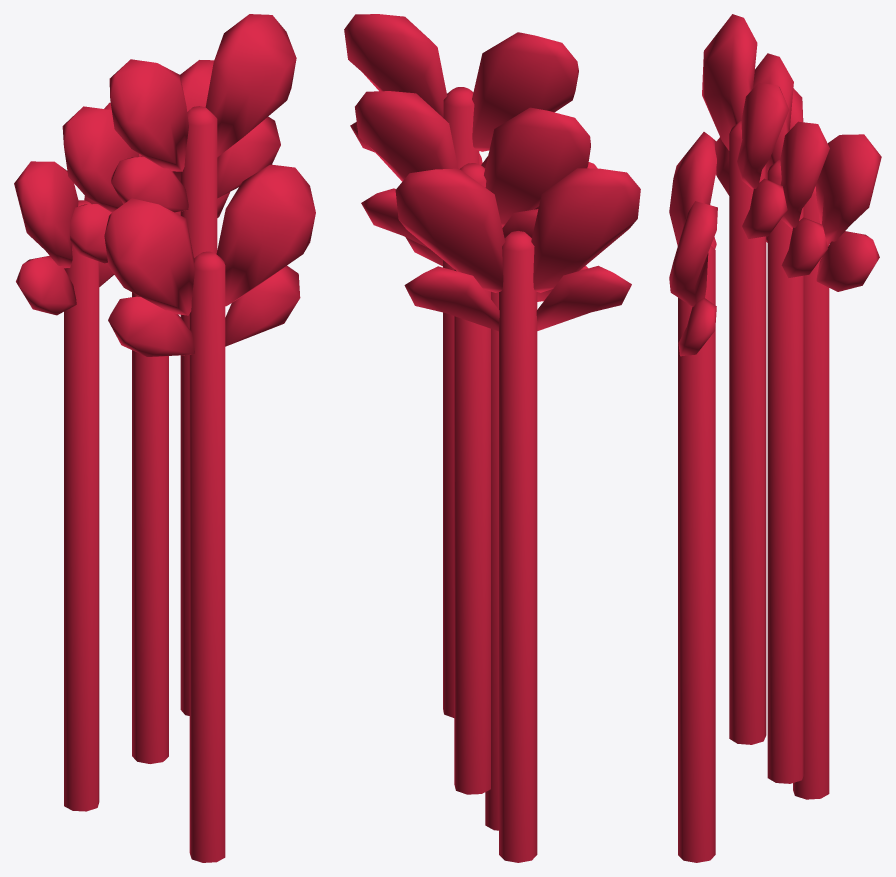
File: ArrowsExplosive.fbx
3 renders of one model, left to right at view 1: azimuth 30°, elevation 25°; view 2: azimuth 150°, elevation 25°; view 3: azimuth 270°, elevation 25°, orthographic. The views are drawn at different scales.
Parts seen in each view (by area): view 1: ExplosiveArrows.001; view 2: ExplosiveArrows.001; view 3: ExplosiveArrows.001.
Part boxes in pixels (bbox=[...]): ExplosiveArrows.001: bbox=[14, 14, 315, 862]; ExplosiveArrows.001: bbox=[344, 14, 640, 862]; ExplosiveArrows.001: bbox=[669, 14, 881, 862].
Size of the model in its own units: 112 by 308 by 73.23.
